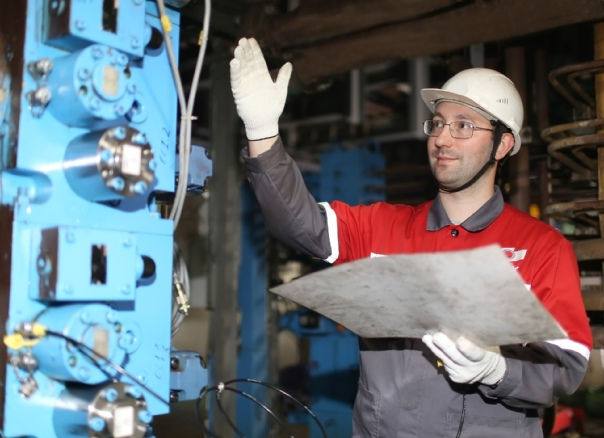person: (230, 37, 591, 438)
